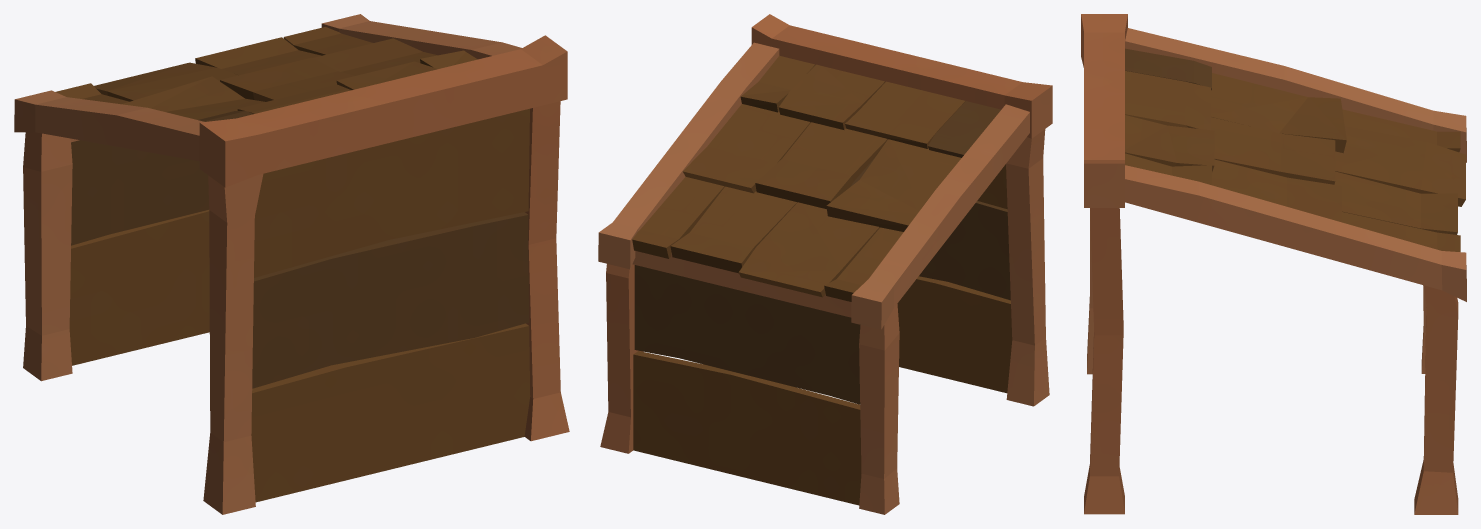
The model's file is Sushka_drov.fbx.
The picture shows the model from 3 angles, left to right: view 1: azimuth 30°, elevation 25°; view 2: azimuth 150°, elevation 25°; view 3: azimuth 270°, elevation 25°; orthographic projection. The views are drawn at different scales.
Parts seen in each view (by area): view 1: Сanopyl; view 2: Сanopyl; view 3: Сanopyl.
Boxes of the visible parts, x1,y1,x2,y2 form: Сanopyl: (14,14,569,514); Сanopyl: (598,14,1052,514); Сanopyl: (1081,14,1466,514).
Size of the model in its own units: 2.27 by 2.37 by 2.37.
Materials: 1 (1 with a texture image).
